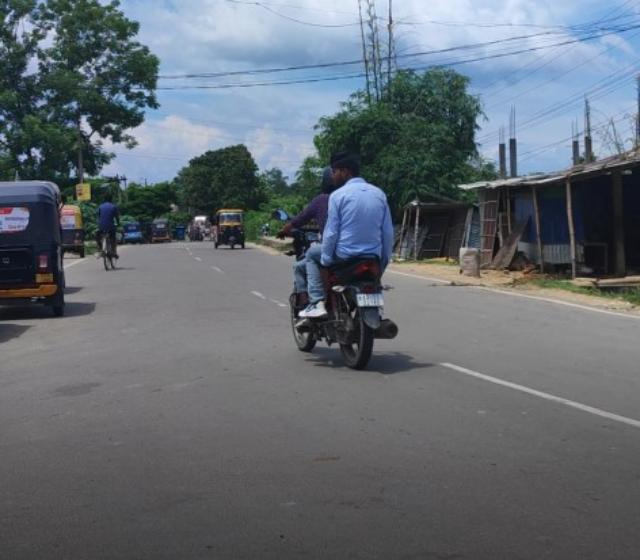licensePlate: (355, 291, 388, 311)
motorcycle: (279, 155, 396, 370)
withHelmet: (321, 172, 335, 191)
withoutHelmet: (329, 158, 364, 188)
